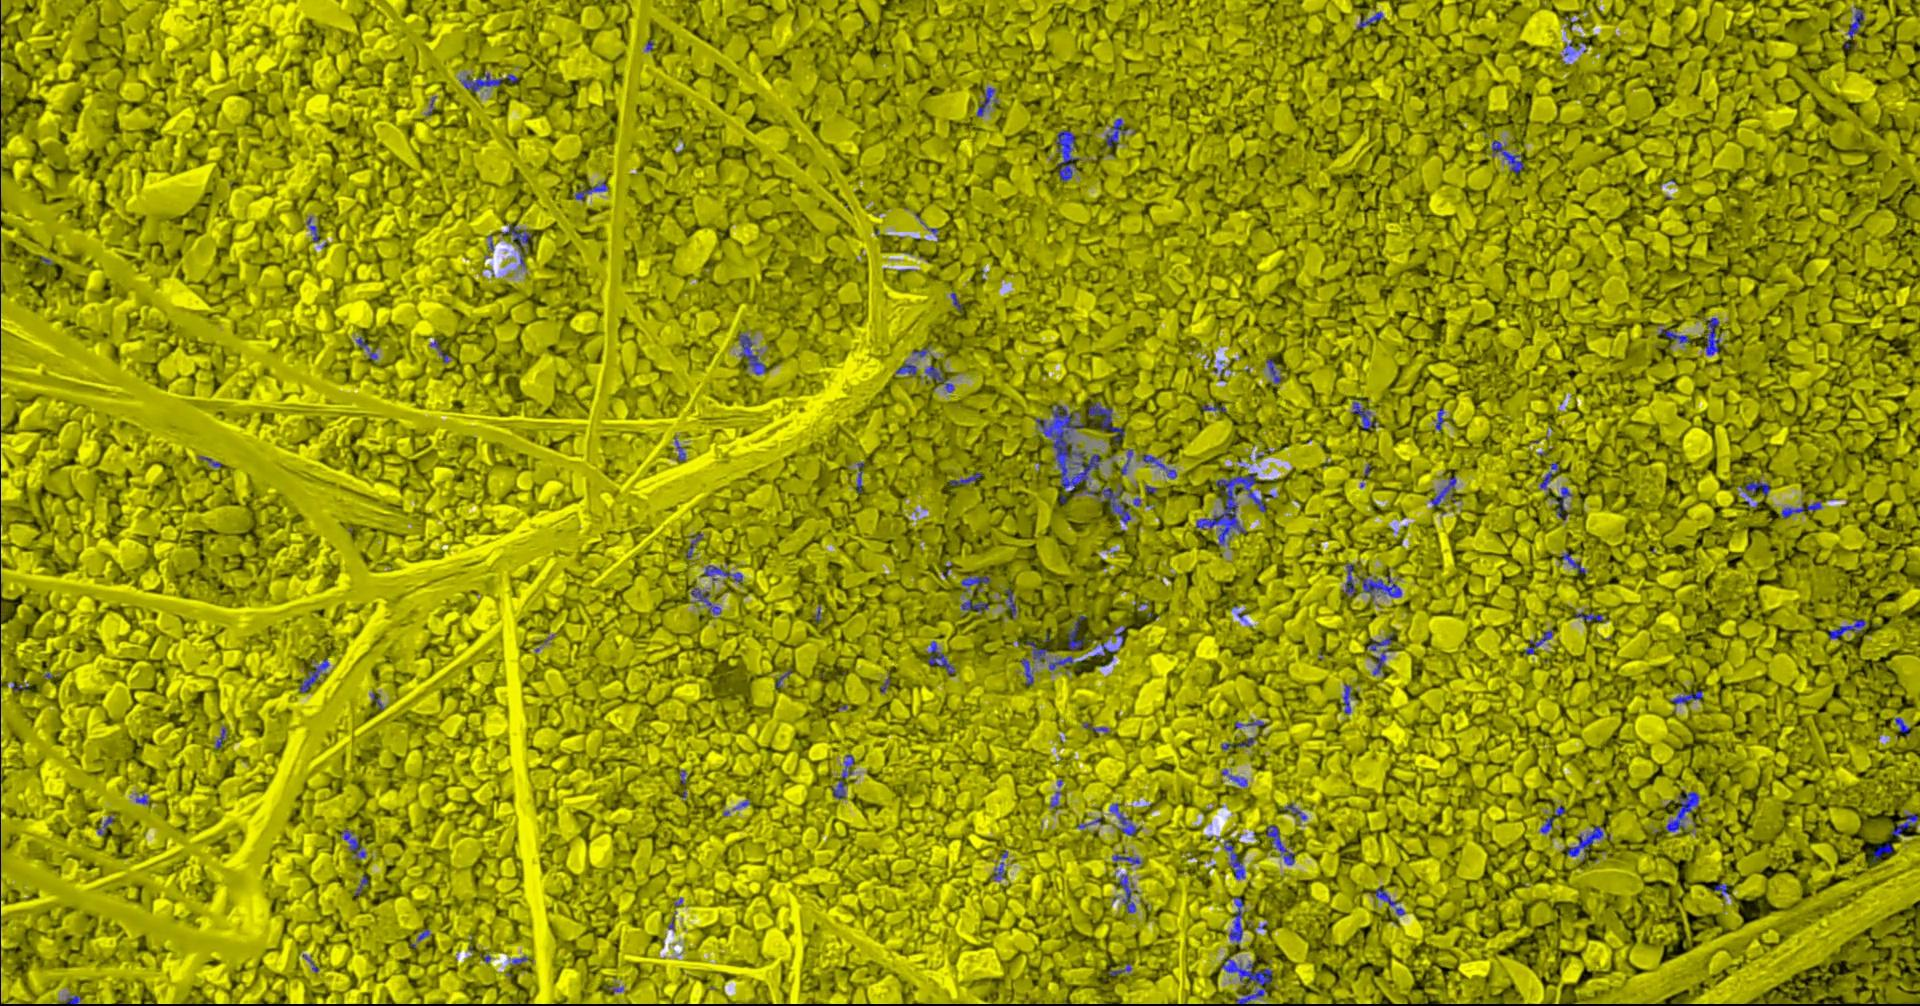ant: (1223, 956, 1274, 1005), (1090, 401, 1126, 445), (503, 224, 535, 265), (740, 332, 772, 373), (1057, 130, 1082, 180), (1669, 791, 1700, 831), (1368, 631, 1396, 674), (1101, 484, 1131, 523), (1267, 826, 1297, 864), (1493, 138, 1525, 173), (1568, 826, 1604, 856), (1360, 575, 1403, 600), (833, 754, 856, 799), (301, 658, 330, 692), (930, 641, 956, 676), (1111, 801, 1138, 835), (1144, 453, 1178, 478), (461, 72, 504, 91), (1230, 895, 1247, 945), (926, 365, 955, 392), (1352, 401, 1382, 429), (1377, 887, 1406, 915), (692, 587, 723, 614), (1225, 840, 1246, 879), (1069, 615, 1092, 649), (1743, 478, 1770, 506), (1432, 476, 1458, 506), (1783, 500, 1823, 518), (1542, 805, 1567, 833), (342, 829, 367, 857), (1830, 619, 1867, 638), (1526, 630, 1554, 654), (703, 565, 744, 582), (1892, 813, 1920, 836), (1106, 118, 1128, 147), (577, 180, 610, 199), (1120, 874, 1137, 912), (978, 86, 998, 116), (1556, 486, 1573, 520), (1705, 318, 1721, 354), (1562, 551, 1587, 573), (1343, 563, 1360, 596), (1849, 8, 1865, 39), (1658, 328, 1693, 343), (357, 337, 378, 359), (994, 848, 1010, 880), (1050, 655, 1084, 669), (1357, 11, 1384, 29), (1542, 461, 1559, 488), (1027, 640, 1049, 662), (963, 574, 990, 591), (1280, 803, 1308, 819), (1223, 768, 1248, 786), (951, 471, 983, 485), (1672, 690, 1704, 704), (430, 339, 450, 362), (1222, 737, 1256, 749), (1114, 848, 1142, 864), (1004, 587, 1017, 619), (687, 533, 703, 558), (1873, 842, 1893, 861), (1267, 359, 1283, 384), (1022, 657, 1035, 685), (1577, 611, 1610, 621), (1343, 683, 1355, 713), (963, 600, 990, 611), (309, 216, 320, 241), (1896, 716, 1911, 735), (1709, 882, 1730, 895), (676, 437, 687, 461), (1236, 719, 1266, 728), (857, 462, 866, 492), (897, 362, 918, 373), (1436, 408, 1446, 431), (63, 995, 83, 1005), (1203, 405, 1227, 412)
